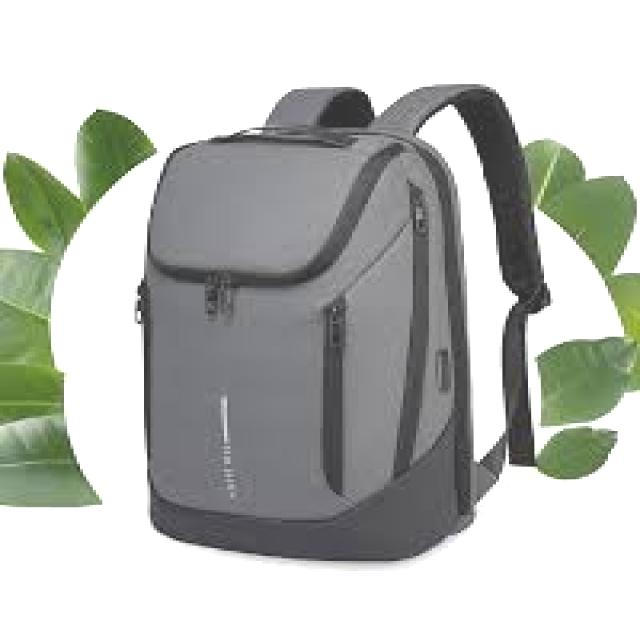backpack: (133, 83, 552, 563)
